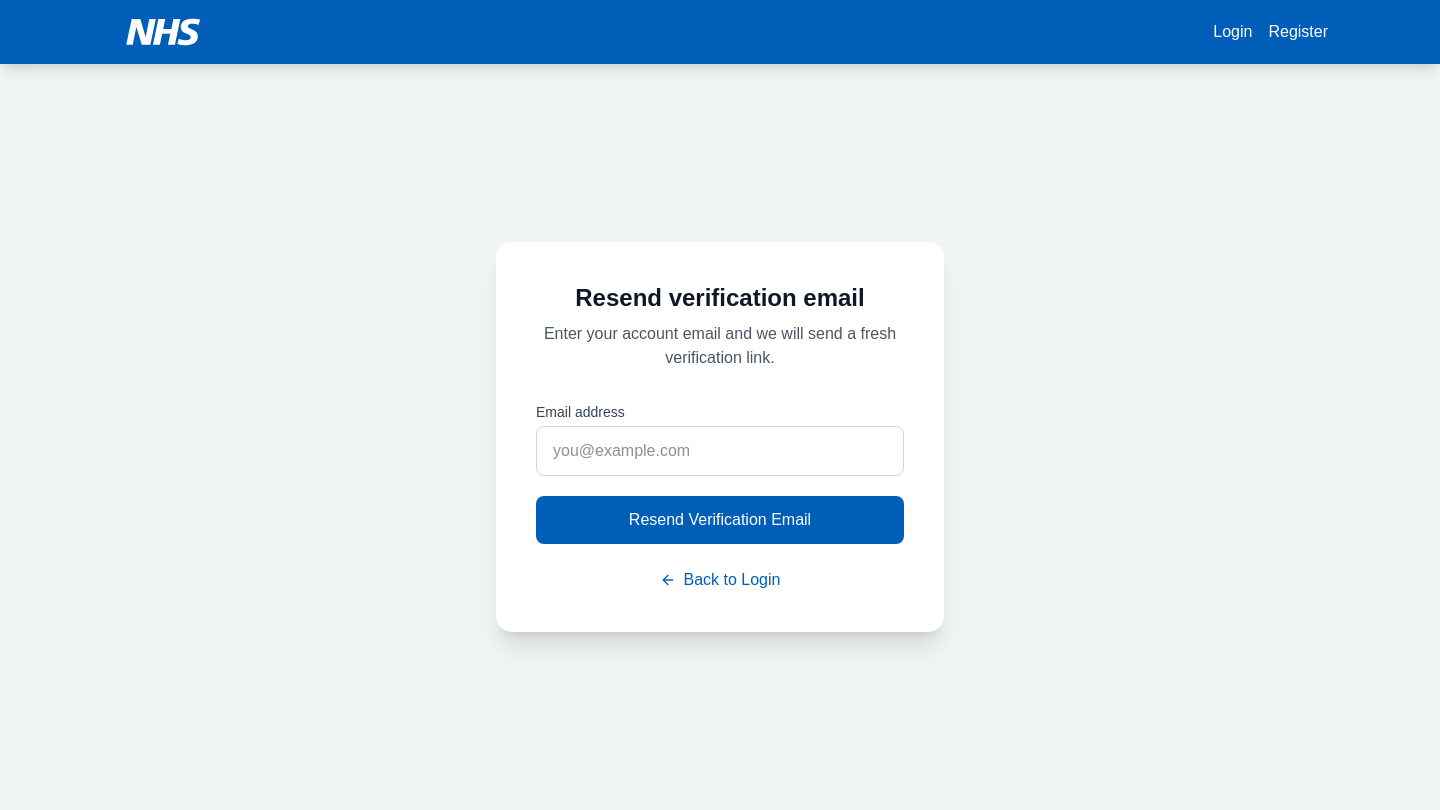
Test: ResendVerificationPage › shows generic error when resendVerificationEmail rejects with a non-Error value
Type "test@example.com" into the field labelled "Email address" at (720,451), box x1=536 y1=426 x2=904 y2=476
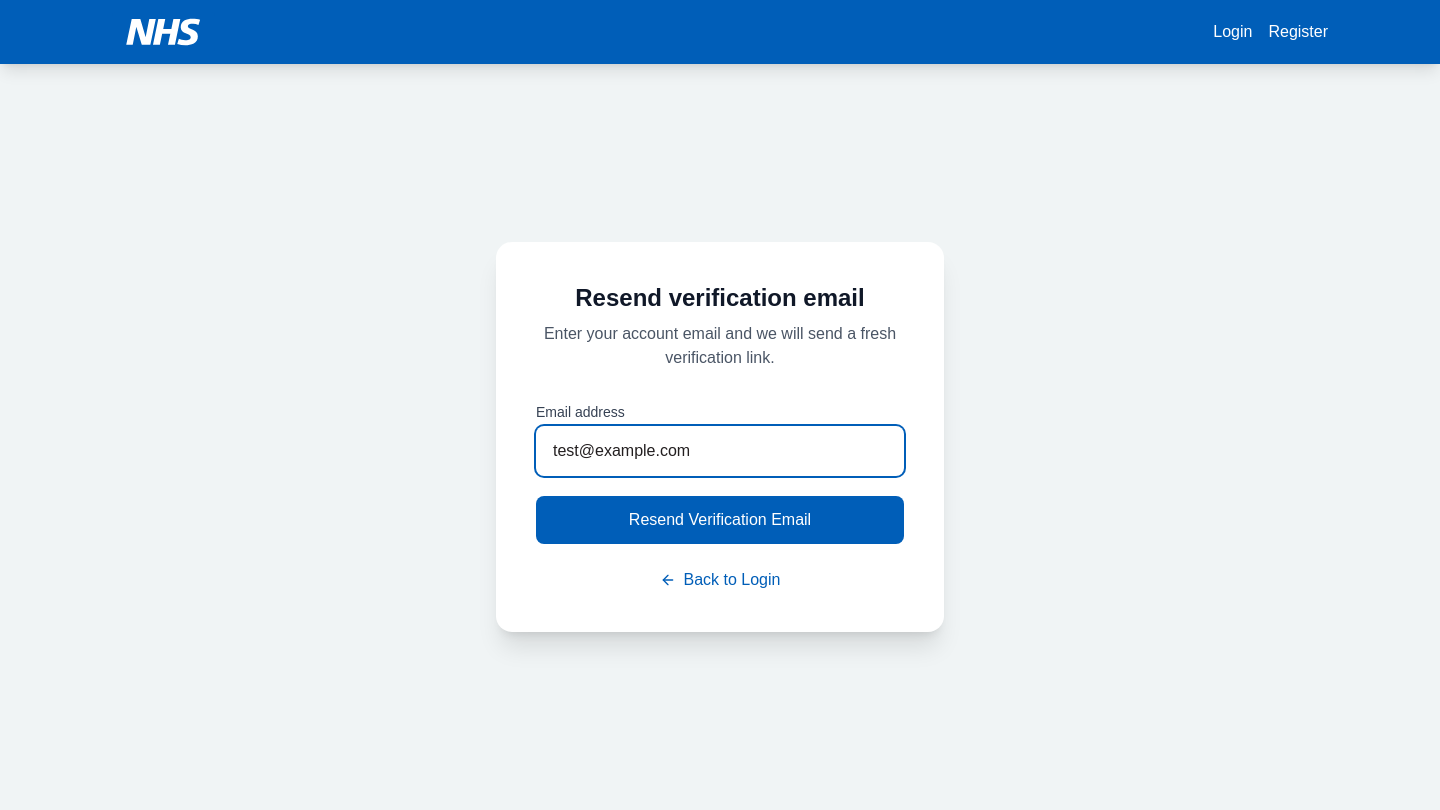
Click the button "Resend Verification Email" at (720,520), box x1=536 y1=496 x2=904 y2=544
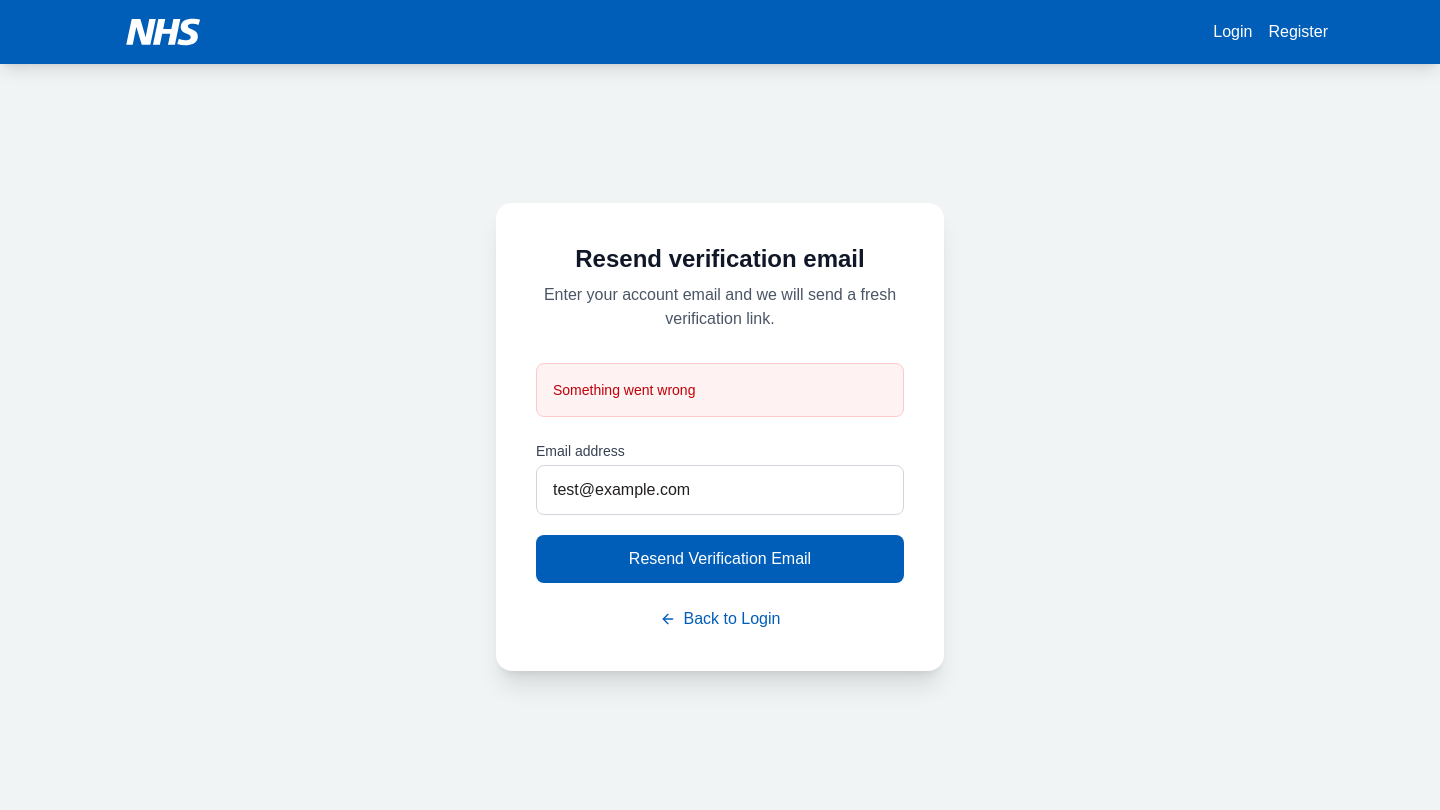
Expected: the text "Something went wrong" is shown, x1=536 y1=363 x2=904 y2=417
